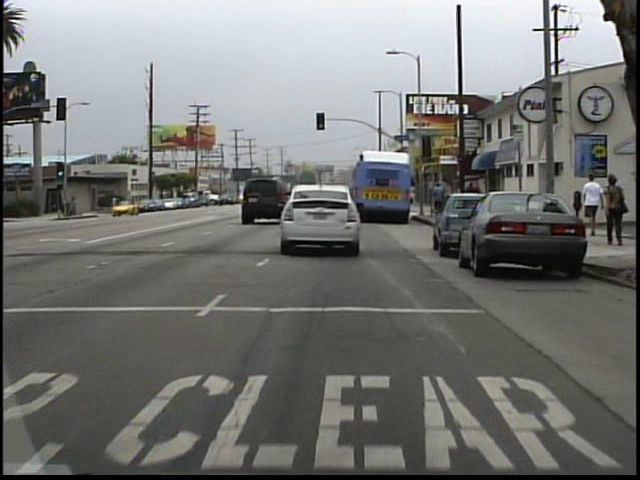person: (598, 171, 624, 249), (578, 172, 604, 240), (429, 181, 448, 222), (114, 193, 115, 214)
